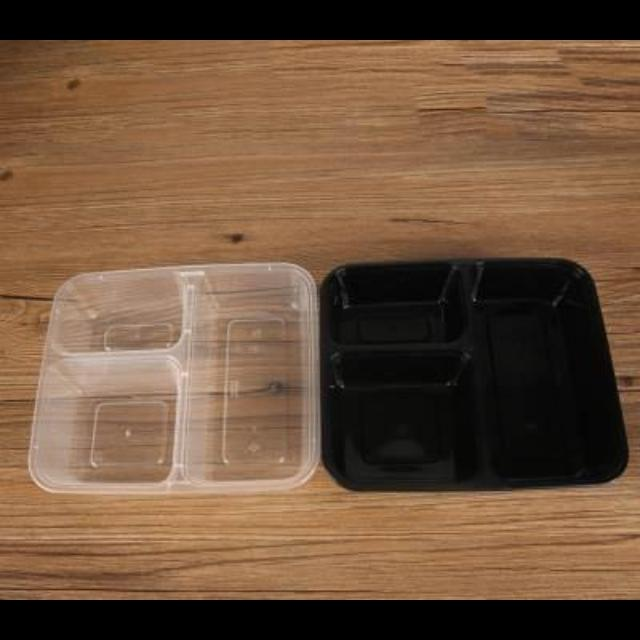plastic_box: (315, 253, 627, 491), (28, 260, 318, 492)
